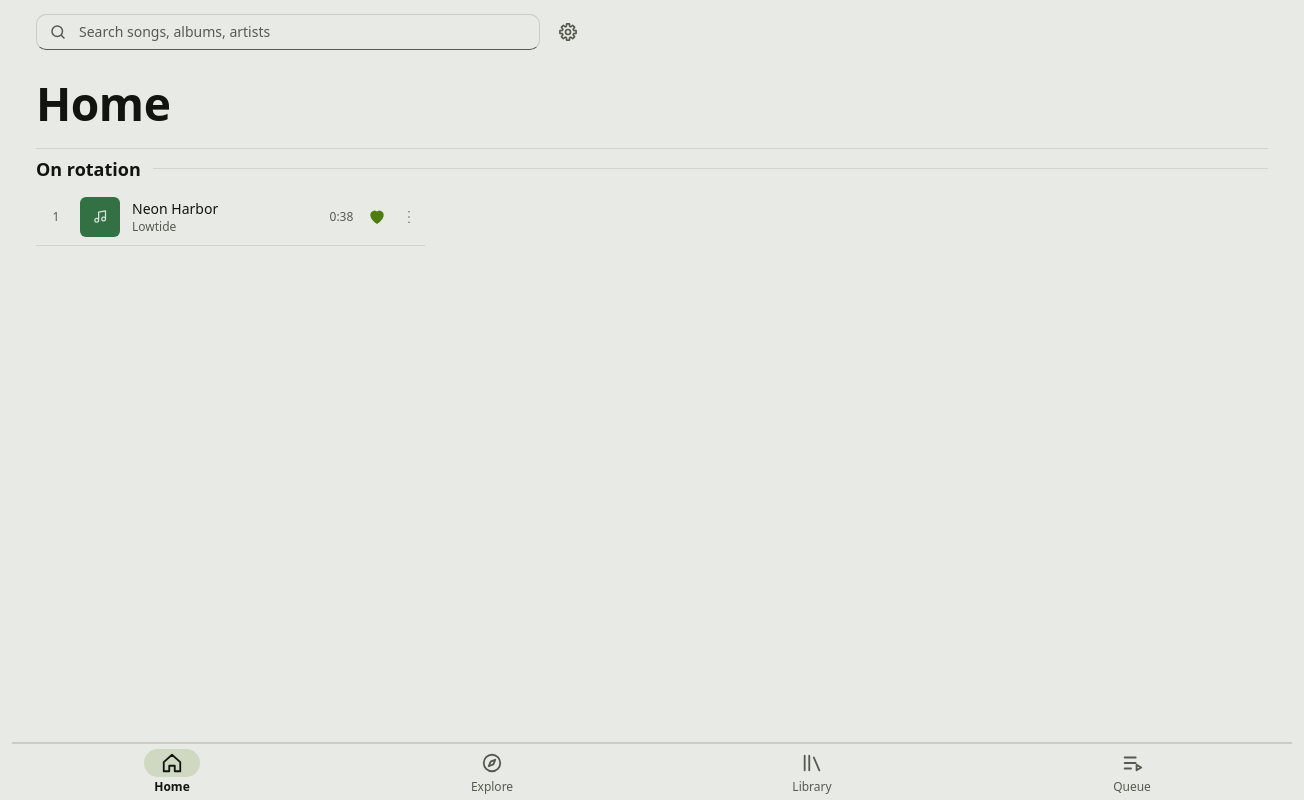
Test case: pages keep their header in place while the body scrolls › Library: the title and tabs stay, the lists scroll
Click the button "Library" at [812, 772], box [652,744,972,799]
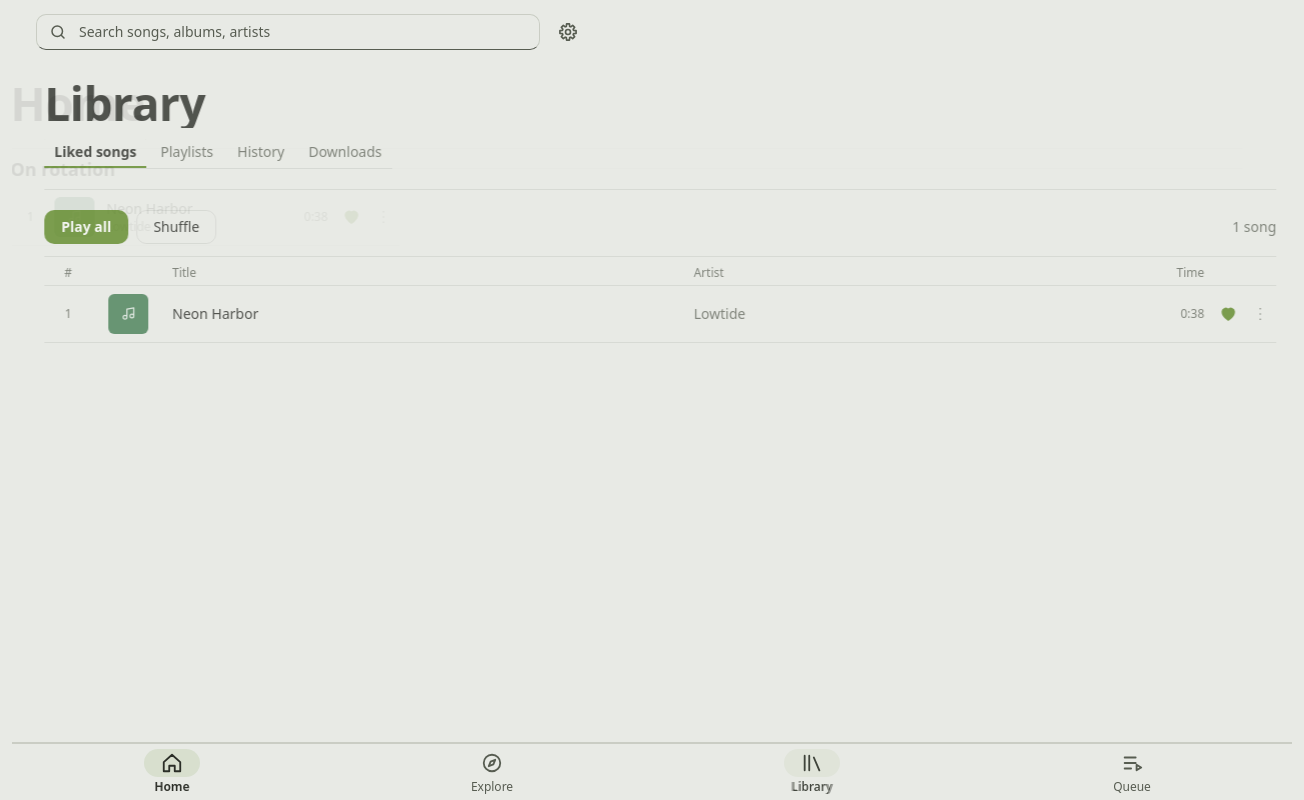
Check: the list named "Liked songs" is shown, box [36,286,1268,343]
Check: the tab "Playlists" is shown, box [142,136,215,168]
